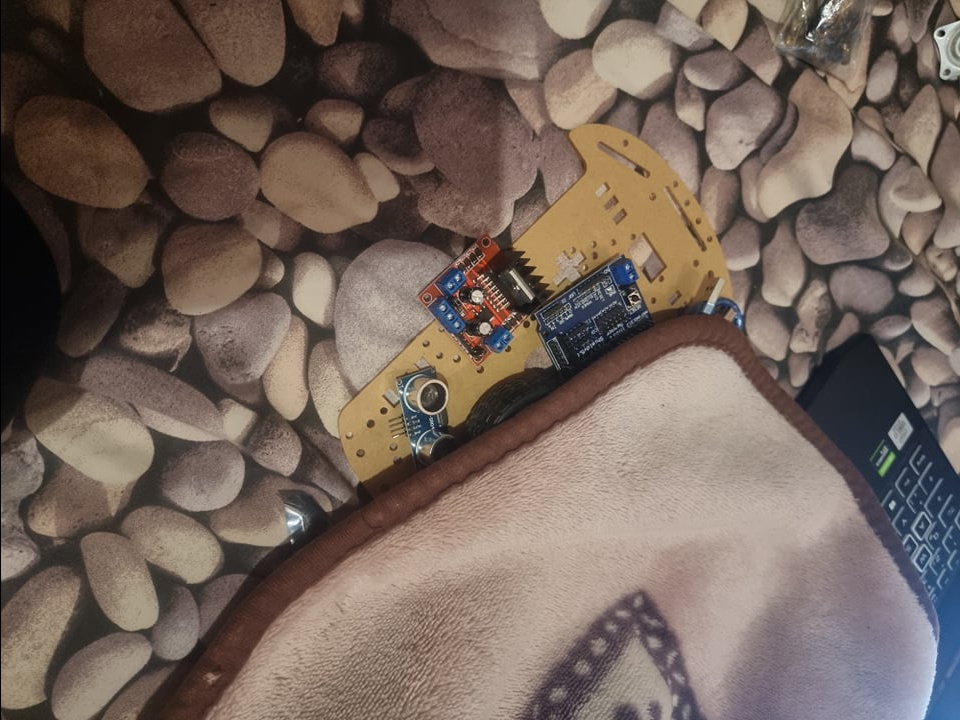5V EXPANSION: (534, 255, 653, 379)
MOTOR: (416, 232, 546, 360)
SENSOR: (395, 373, 455, 460)
